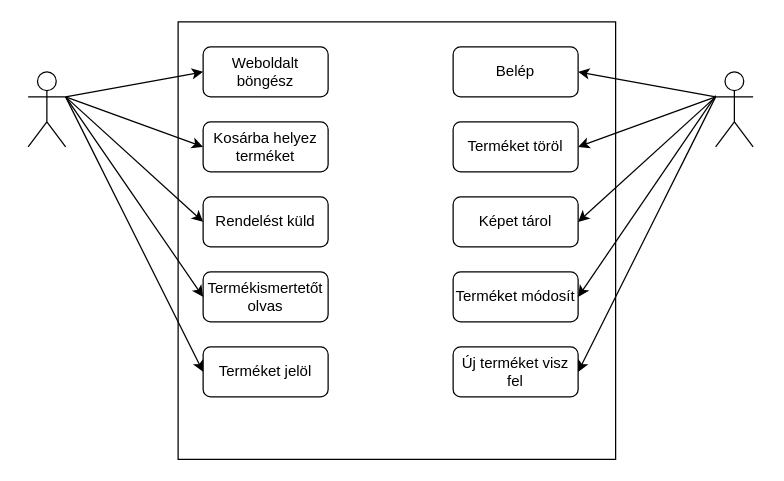
The diagram is 784 pixels wide and 481 high, and some of its shapes have lost their labels. Here are the shapes that lost their labels. From the top down, the box of each, then its label:
(27, 71, 66, 147): Vásárló
(714, 71, 753, 147): Dolgozó
